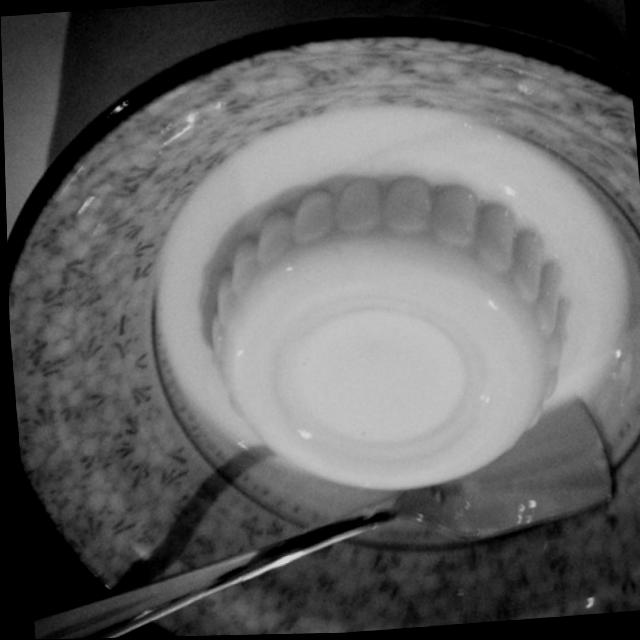蛋糕甜品: (0, 8, 640, 640)
